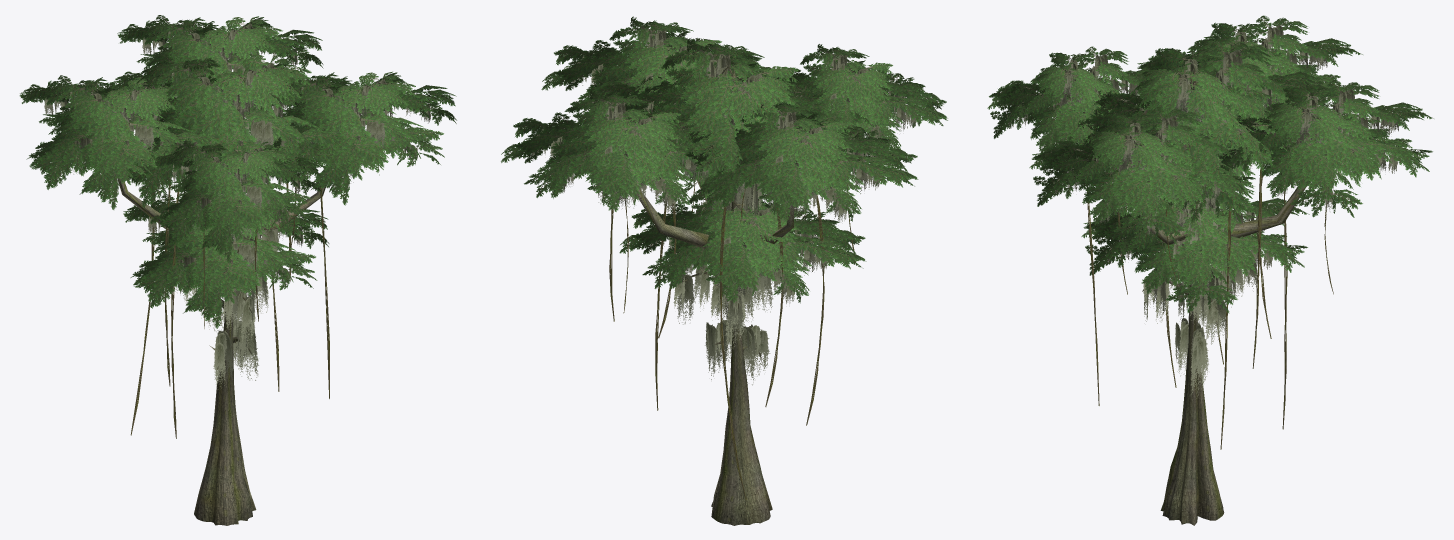
File: jungle_tree.glb
3 views of the same model, side by side, from view 1: azimuth 30°, elevation 25°; view 2: azimuth 150°, elevation 25°; view 3: azimuth 270°, elevation 25° (orthographic). The views are drawn at different scales.
Parts seen in each view (by area): view 1: jungle; view 2: jungle; view 3: jungle.
Boxes of the visible parts, left/top/right/bottom form: jungle: left=19, top=15, right=456, bottom=525; jungle: left=501, top=16, right=947, bottom=525; jungle: left=987, top=15, right=1433, bottom=525.
Bounding box in the file's own units: 18.78 × 20 × 17.97.
Materials: 9 (9 with a texture image).
